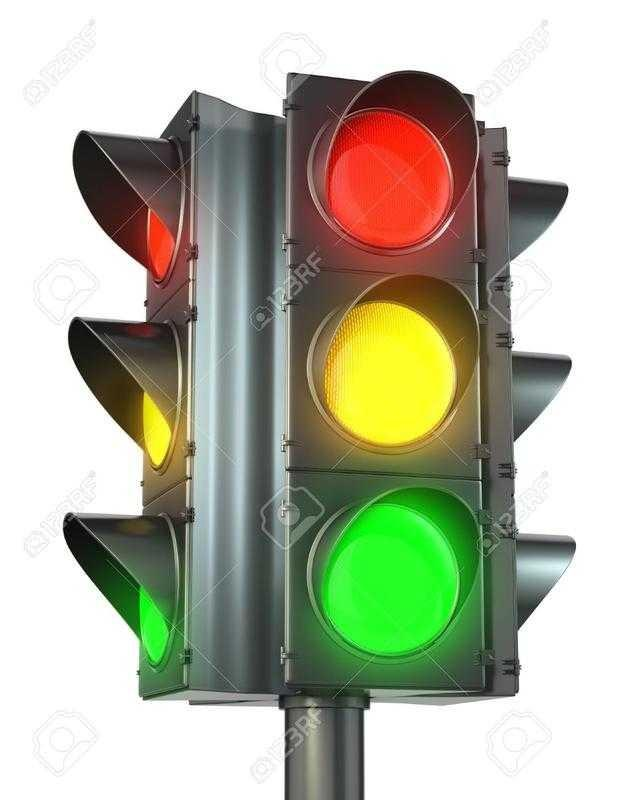green: (299, 492, 490, 679)
red: (312, 70, 478, 264)
